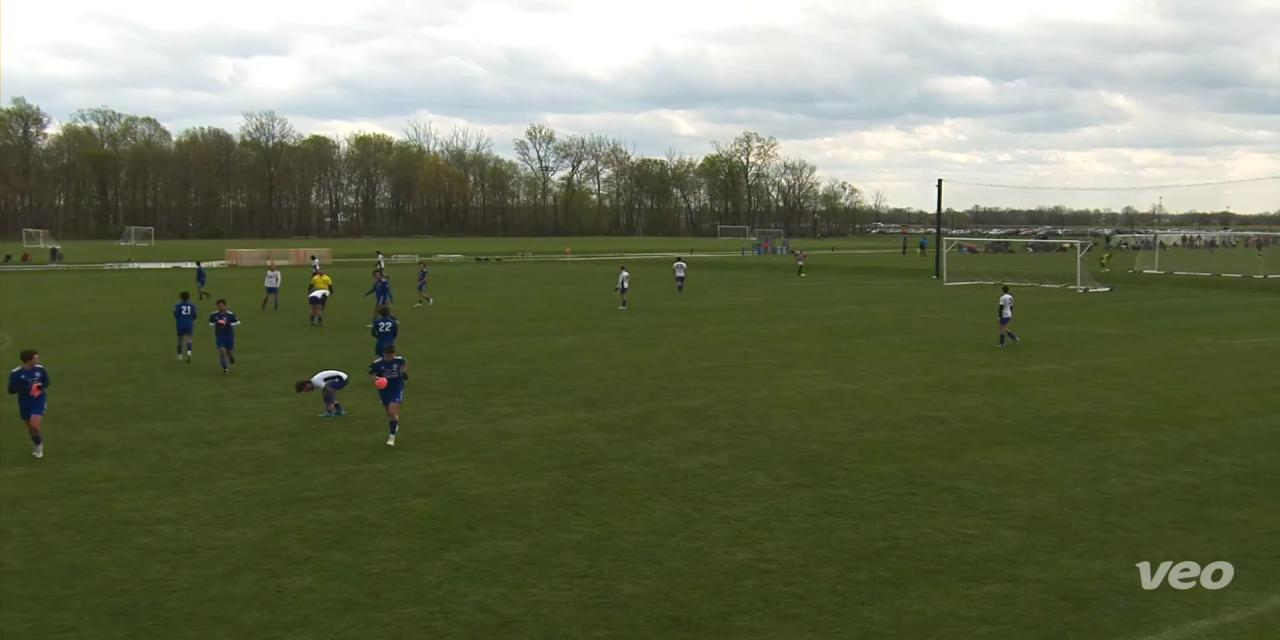goal: (934, 230, 1124, 298)
sports ball: (798, 269, 812, 281)
